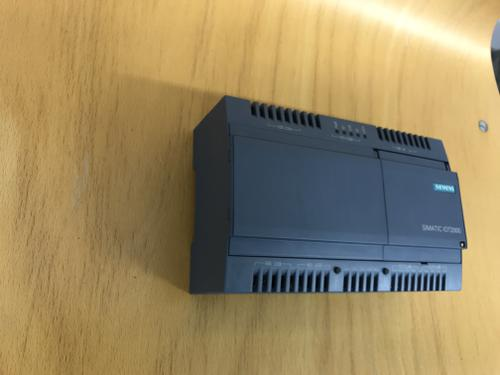device: (190, 95, 469, 294)
